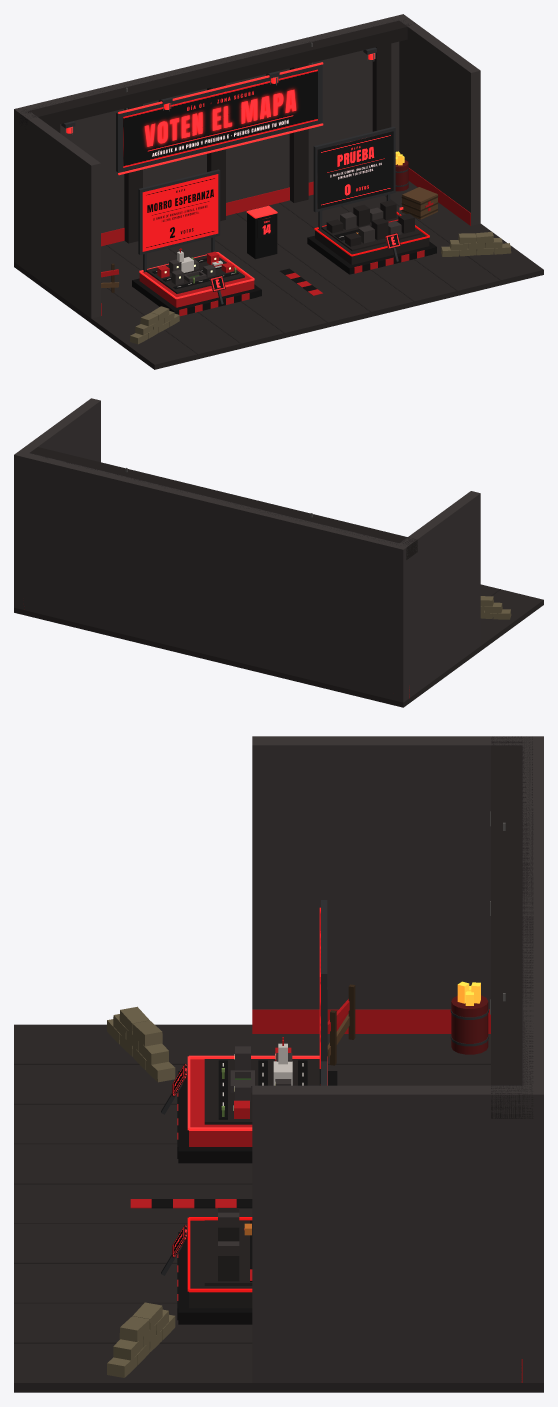
Rendered from zona-votacion.glb.
The picture shows the model from 3 angles, top to bottom: view 1: azimuth 30°, elevation 25°; view 2: azimuth 150°, elevation 25°; view 3: azimuth 270°, elevation 25°; orthographic projection. The views are drawn at different scales.
Visible parts, largest first — view 1: suelo, pared_fondo, pared_lateral_0, pared_lateral_1, letrero_cara, viga_techo, morro_cartel_cara, prueba_cartel_cara, letrero_marco, columna_4, columna_3, morro_base (+15 smaller); view 2: pared_fondo, pared_lateral_0, suelo, pared_lateral_1, viga_techo; view 3: pared_lateral_1, suelo, pared_lateral_0, pared_fondo, viga_techo, zocalo_lateral_0, morro_mq_suelo, prueba_base, morro_base, morro_escalon, prueba_escalon, barril_cuerpo_a (+4 smaller).
Part boxes in pixels (bbox=[...]): suelo: bbox=[14, 181, 543, 369]; pared_fondo: bbox=[14, 14, 408, 265]; pared_lateral_0: bbox=[14, 108, 100, 318]; pared_lateral_1: bbox=[396, 14, 480, 225]; letrero_cara: bbox=[123, 69, 317, 167]; viga_techo: bbox=[17, 19, 414, 126]; morro_cartel_cara: bbox=[142, 174, 218, 251]; prueba_cartel_cara: bbox=[317, 131, 393, 208]; letrero_marco: bbox=[116, 64, 322, 172]; columna_4: bbox=[372, 23, 391, 131]; columna_3: bbox=[289, 43, 308, 202]; morro_base: bbox=[139, 255, 254, 307]; pared_fondo: bbox=[14, 452, 408, 702]; pared_lateral_0: bbox=[393, 491, 480, 702]; suelo: bbox=[14, 584, 543, 707]; pared_lateral_1: bbox=[14, 398, 100, 608]; viga_techo: bbox=[30, 447, 417, 559]; pared_lateral_1: bbox=[252, 1085, 543, 1382]; suelo: bbox=[14, 1024, 543, 1392]; pared_lateral_0: bbox=[252, 736, 543, 1009]; pared_fondo: bbox=[522, 736, 543, 1382]; viga_techo: bbox=[491, 736, 533, 1118]; zocalo_lateral_0: bbox=[252, 1009, 490, 1033]; morro_mq_suelo: bbox=[204, 1059, 319, 1124]; prueba_base: bbox=[189, 1220, 252, 1308]; morro_base: bbox=[189, 1059, 252, 1146]; morro_escalon: bbox=[178, 1071, 337, 1163]; prueba_escalon: bbox=[178, 1232, 252, 1324]; barril_cuerpo_a: bbox=[451, 995, 488, 1054].
Bounding box in the file's own units: 16 × 6.35 × 10.
Materials: 32 (6 with a texture image).
